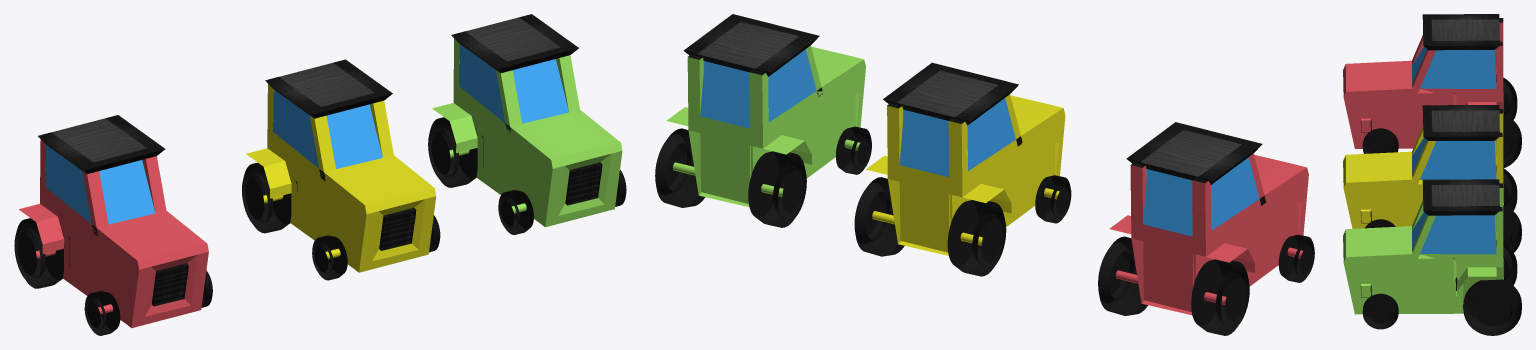
The model's file is car2.fbx.
The picture shows the model from 3 angles, left to right: view 1: azimuth 30°, elevation 25°; view 2: azimuth 150°, elevation 25°; view 3: azimuth 270°, elevation 25°; orthographic projection. The views are drawn at different scales.
Parts seen in each view (by area): view 1: Circle.007, Circle.002, Circle.001; view 2: Circle.007, Circle.002, Circle.001; view 3: Circle.002, Circle.001, Circle.007.
Boxes of the visible parts, <box> form: Circle.007: <box>242,59,440,280</box>; Circle.002: <box>428,14,626,234</box>; Circle.001: <box>14,115,212,335</box>; Circle.007: <box>854,62,1071,276</box>; Circle.002: <box>655,14,871,227</box>; Circle.001: <box>1098,122,1314,335</box>; Circle.002: <box>1343,179,1521,335</box>; Circle.001: <box>1343,14,1521,168</box>; Circle.007: <box>1343,105,1521,252</box>.
Size of the model in its own units: 198 by 52.56 by 70.63.
